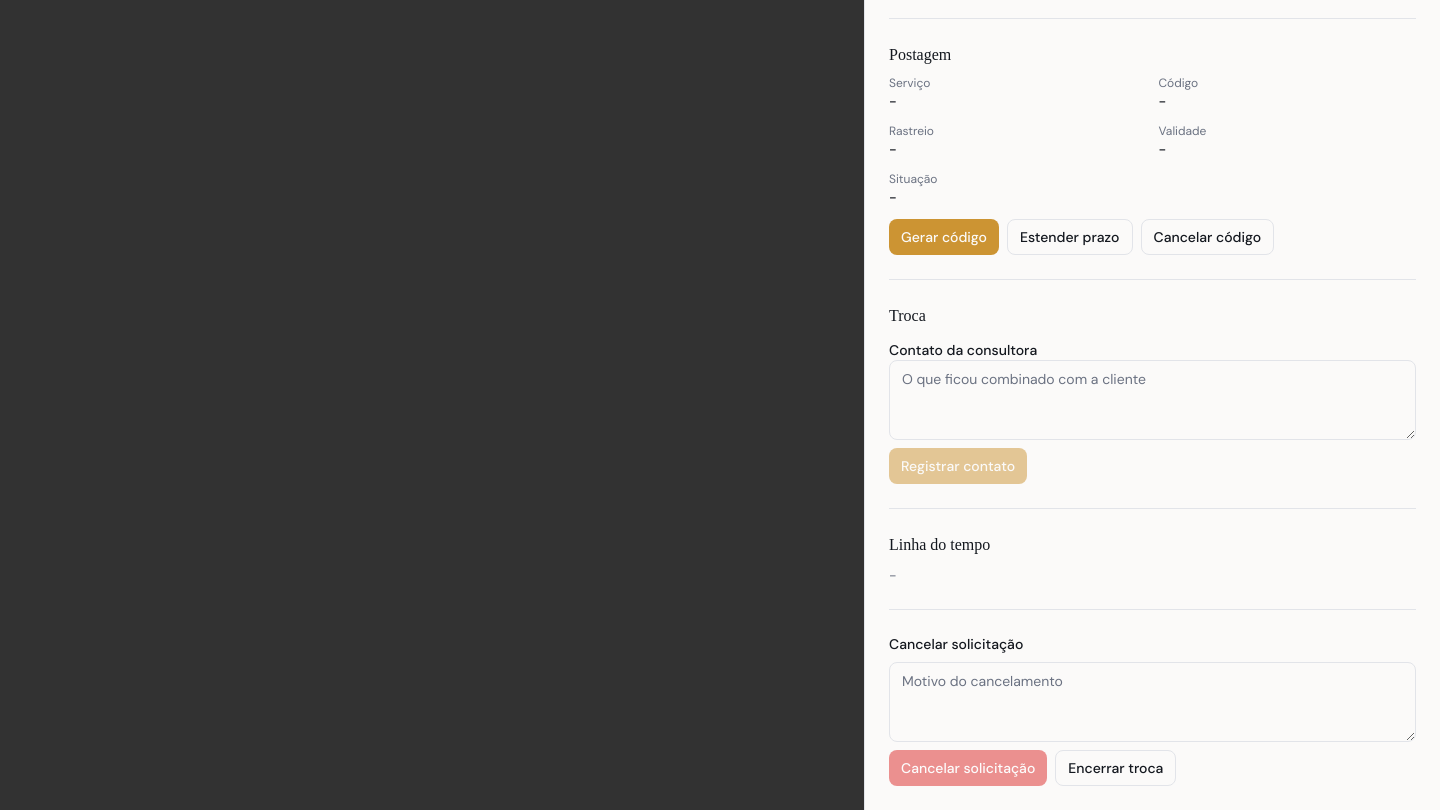
Scenario: regras de encerramento da troca › avisa código compartilhado: mantido_outro_protocolo_usa
Later steps or results of the test are not shown.
(page scrolled)
Click the button "Encerrar troca" at (1116, 768), box [1055,750,1176,786]
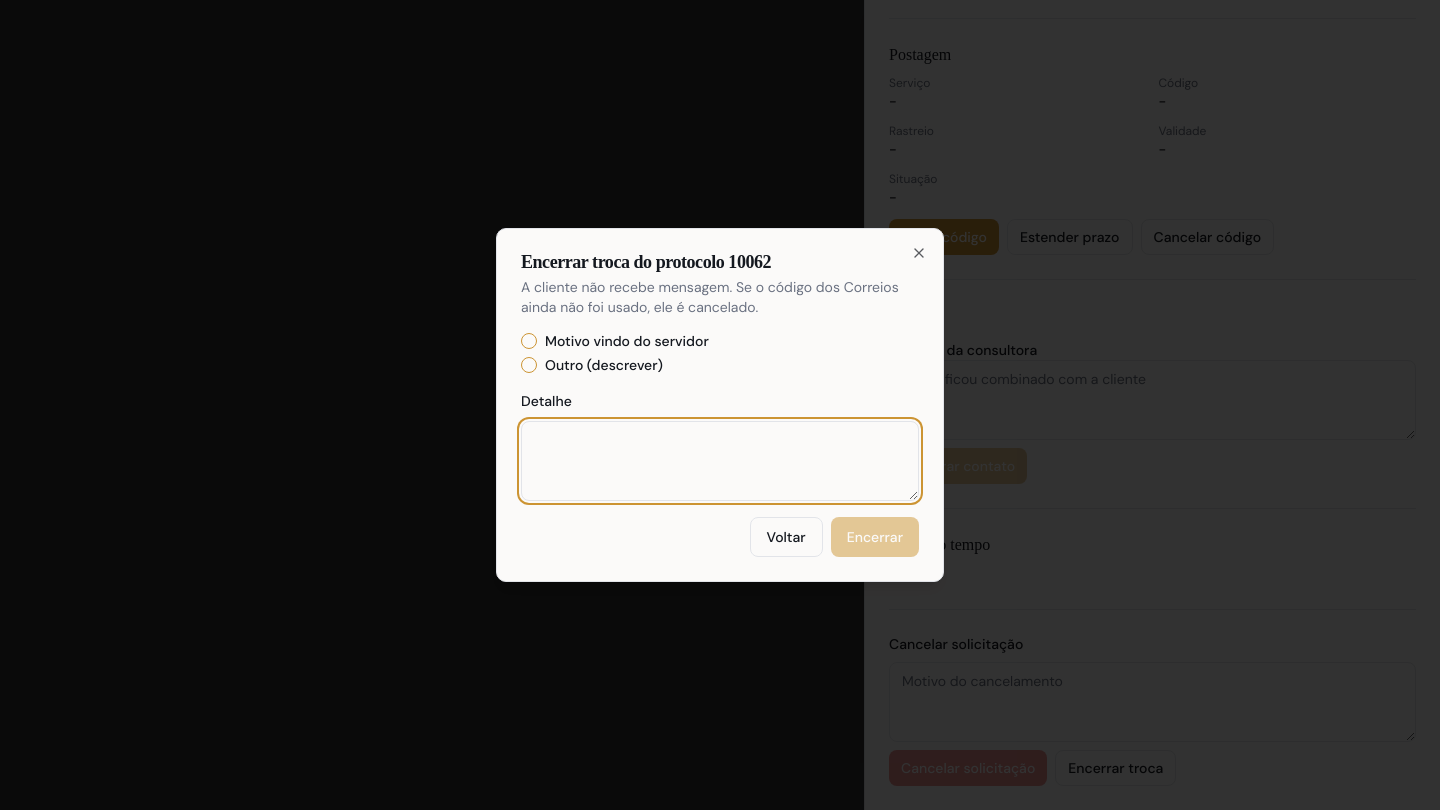
Expected: the radio button named "Outro (descrever)" next to "Outro (descrever)" is shown, [521,357,537,373]
